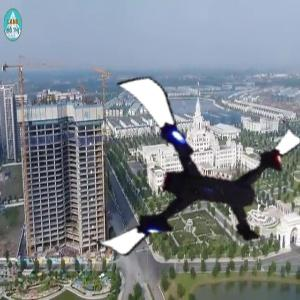drone: (85, 85, 288, 288)
